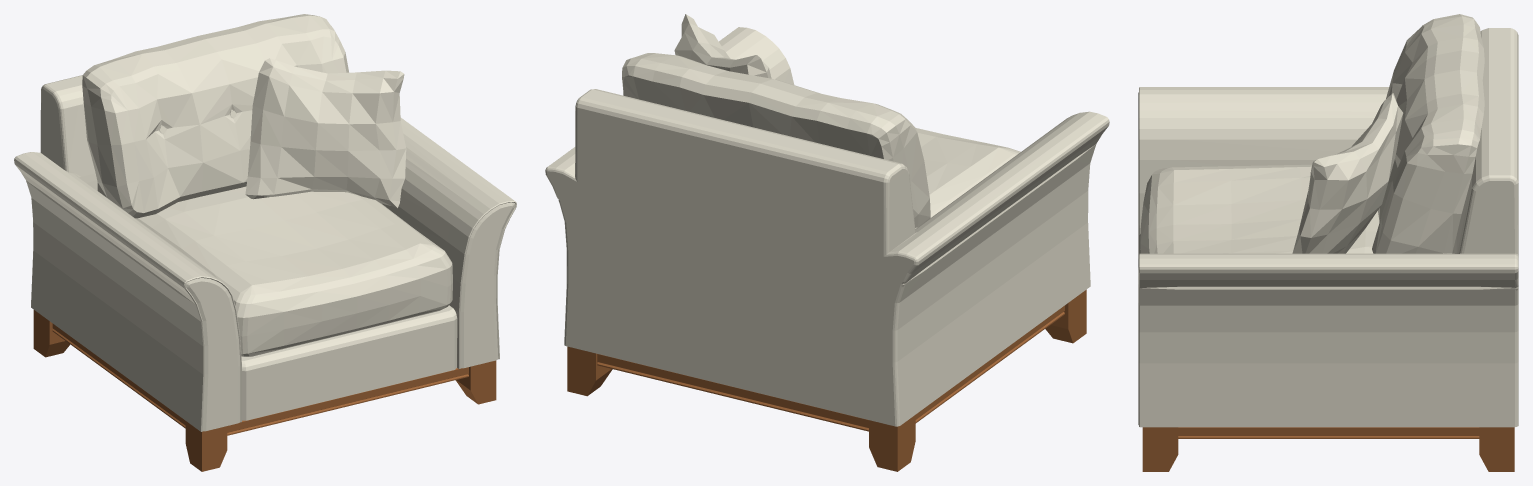
File: chair-by-cmht-oculus-2avtgSBRyF3.glb
3 renders of one model, left to right at view 1: azimuth 30°, elevation 25°; view 2: azimuth 150°, elevation 25°; view 3: azimuth 270°, elevation 25°, orthographic. The views are drawn at different scales.
Visible parts, largest first — view 1: Node; view 2: Node; view 3: Node.
Boxes of the visible parts, bbox=[...] form: Node: bbox=[14, 14, 516, 471]; Node: bbox=[545, 14, 1109, 471]; Node: bbox=[1138, 14, 1518, 471].
Size of the model in its own units: 37 by 31 by 33.11.
